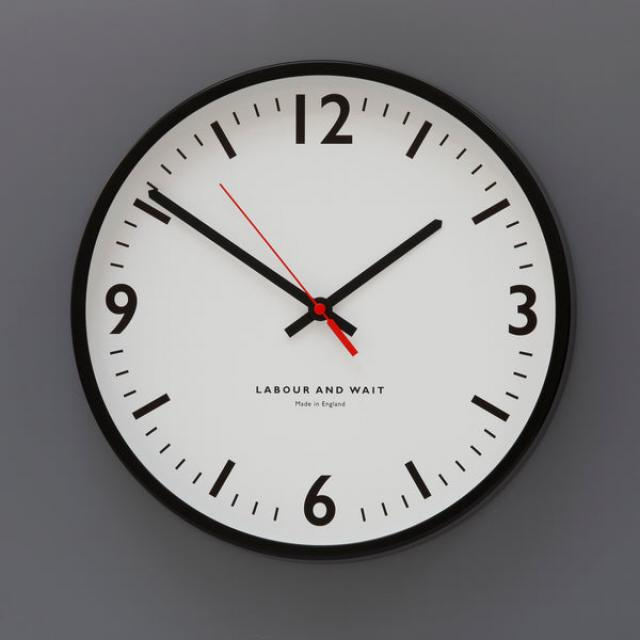clock: (26, 28, 616, 602)
